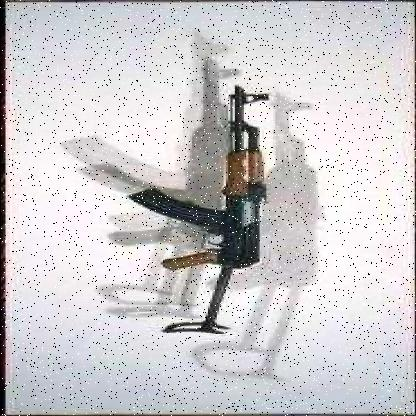rifle: (106, 69, 283, 340)
